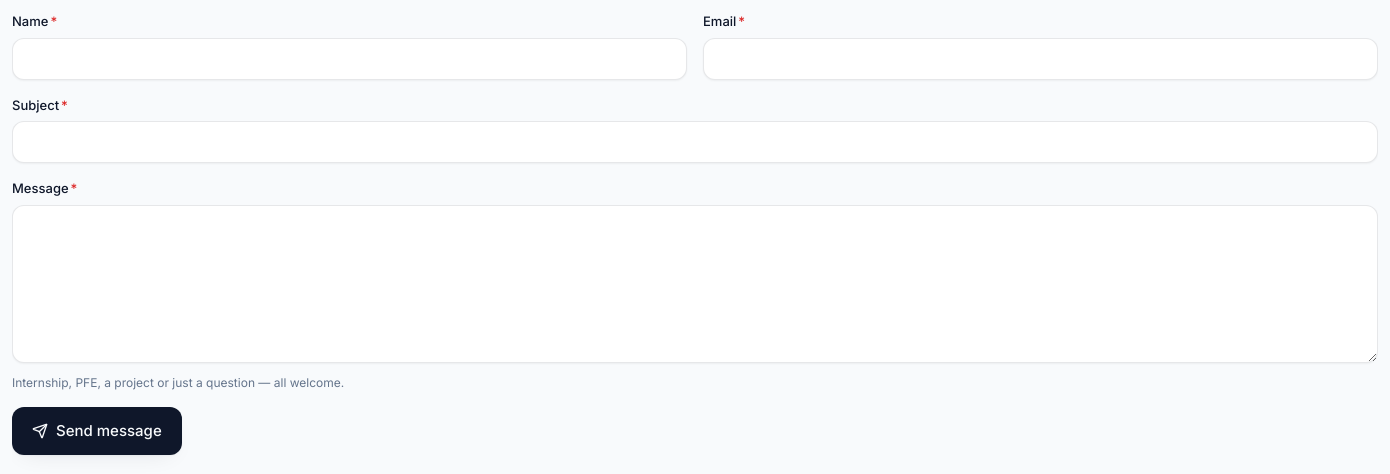
Scenario: ContactForm › submits trimmed values and shows the success state
Step 1. Type "Jane Doe" into the field labelled "Name*" → {"x": 350, "y": 58}, box [12,38,687,80]
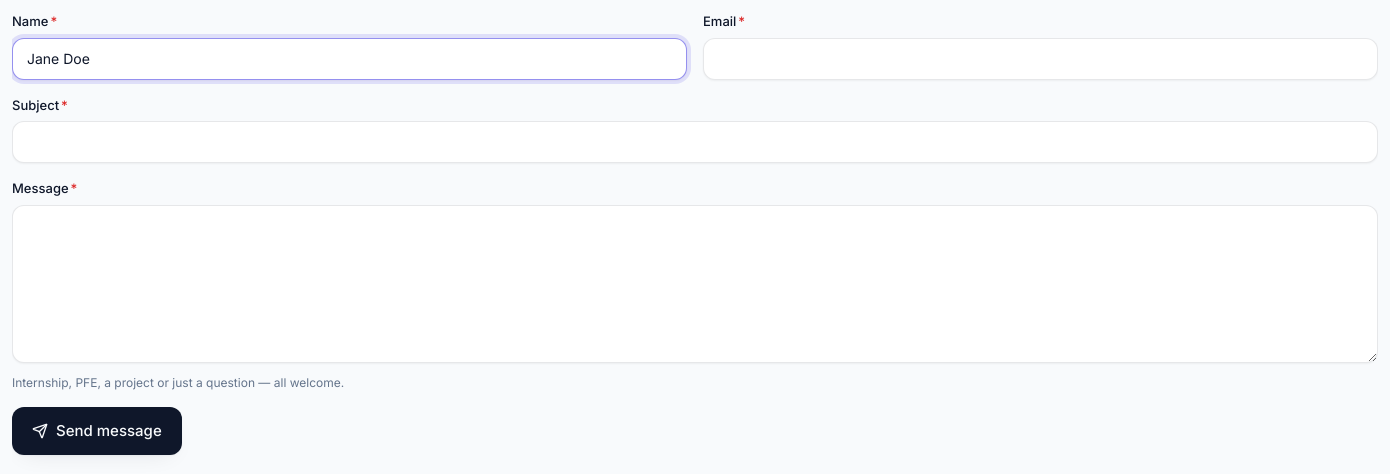
Step 2. Type "jane@example.com" into the field labelled "Email*" → {"x": 1040, "y": 58}, box [703,38,1378,80]
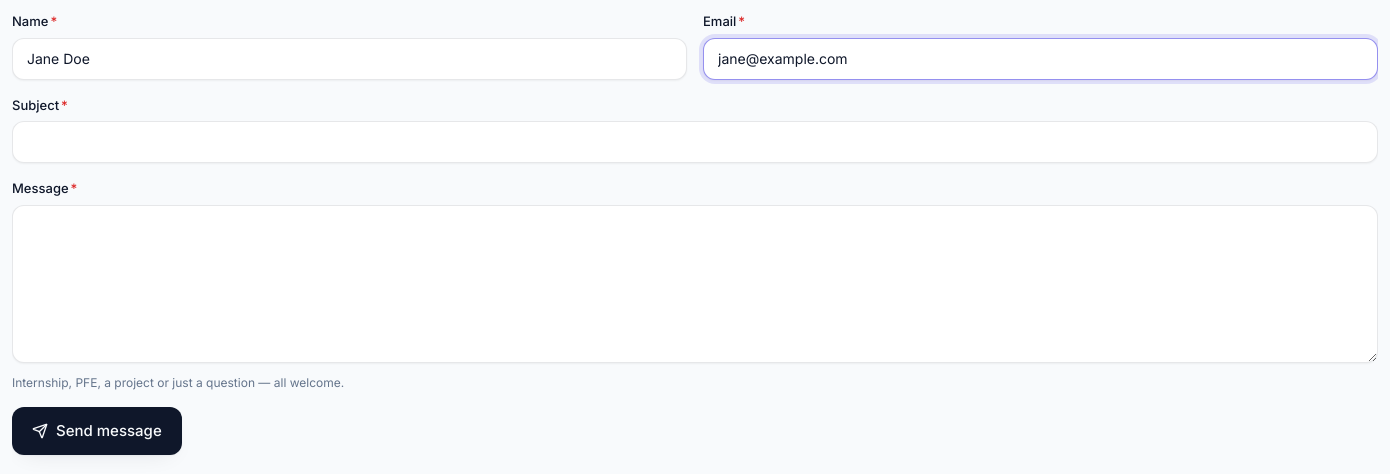
Step 3. Type "Internship" into the field labelled "Subject*" → {"x": 695, "y": 142}, box [12,121,1378,163]
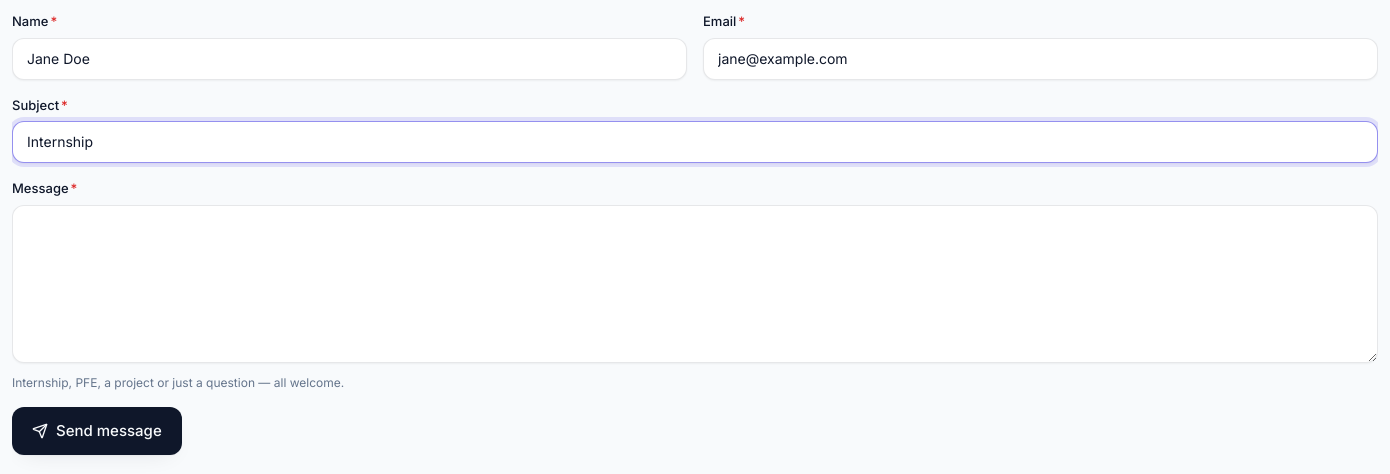
Step 4. Type "Hello Rihab, I would like to talk about an internship." into the text box labelled "Message*" → {"x": 695, "y": 284}, box [12,204,1378,363]
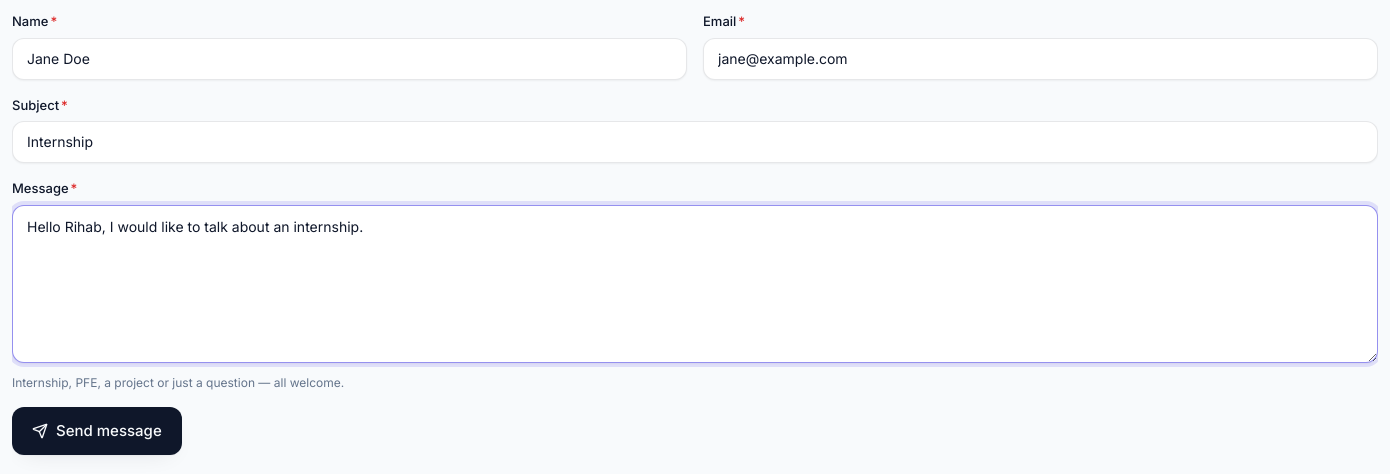
Step 5. Click the button "Send message" → {"x": 97, "y": 431}, box [12,407,182,455]
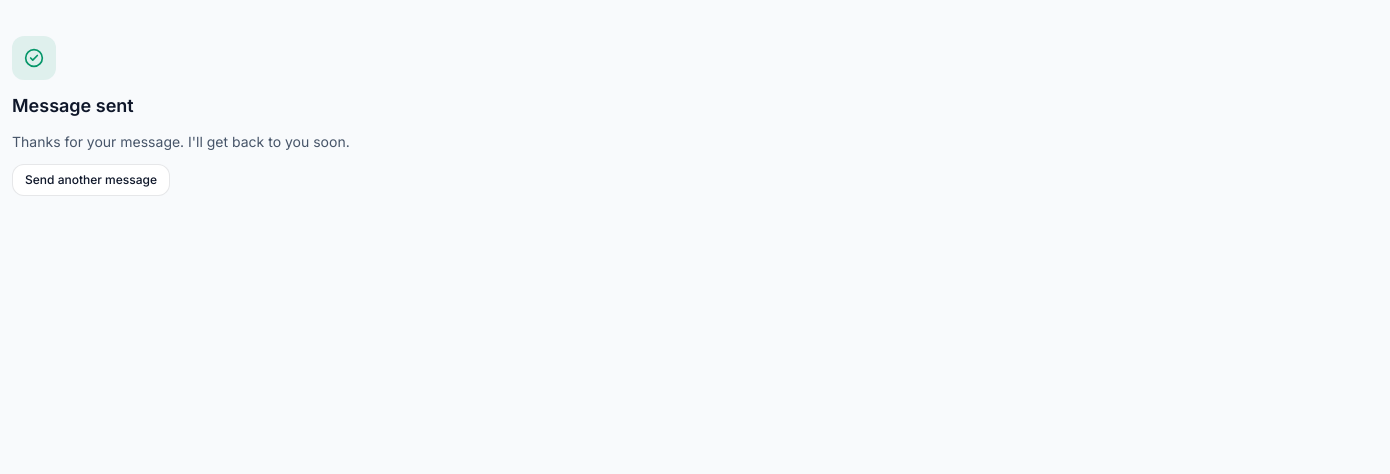
expect the text "Message sent" is shown: met, box [12,92,134,120]
